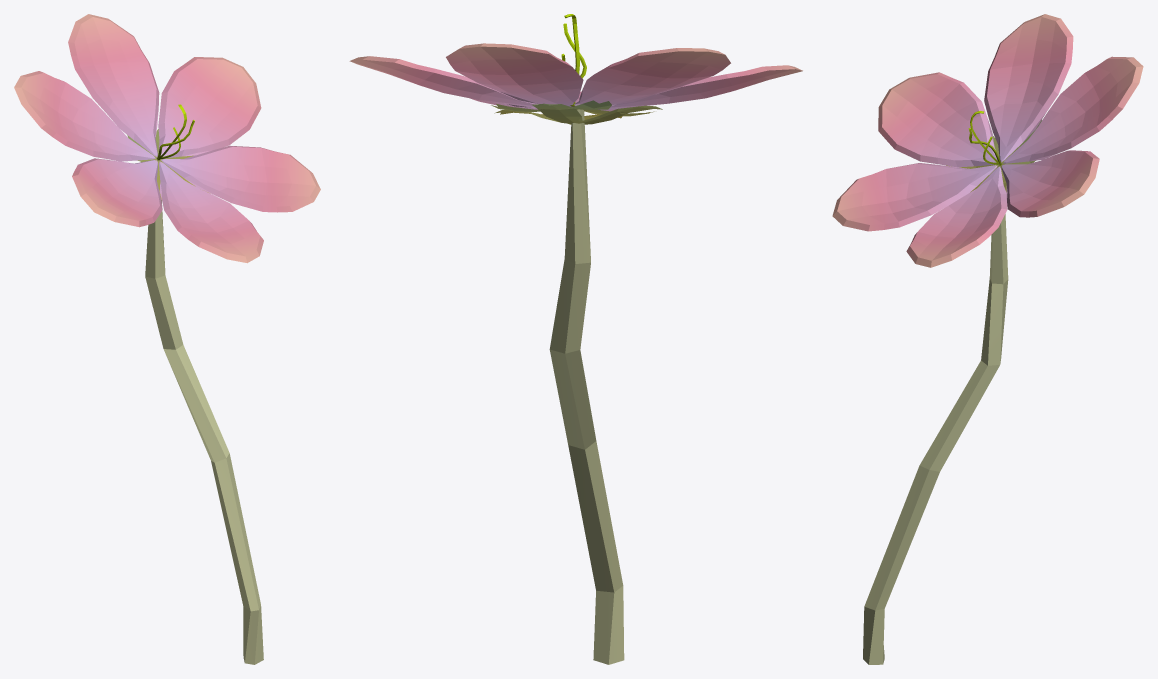
Rendered from SchizostylisCoccinea_BubblegumPink.fbx.
The picture shows the model from 3 angles, left to right: view 1: azimuth 30°, elevation 25°; view 2: azimuth 150°, elevation 25°; view 3: azimuth 270°, elevation 25°; orthographic projection. The views are drawn at different scales.
Parts seen in each view (by area): view 1: SchizostylisCoccinea_BubblegumPink; view 2: SchizostylisCoccinea_BubblegumPink; view 3: SchizostylisCoccinea_BubblegumPink.
Boxes of the visible parts, bbox=[...] form: SchizostylisCoccinea_BubblegumPink: bbox=[14, 14, 320, 664]; SchizostylisCoccinea_BubblegumPink: bbox=[349, 14, 802, 664]; SchizostylisCoccinea_BubblegumPink: bbox=[832, 14, 1143, 664].
Size of the model in its own units: 20.78 by 43.24 by 21.12.
